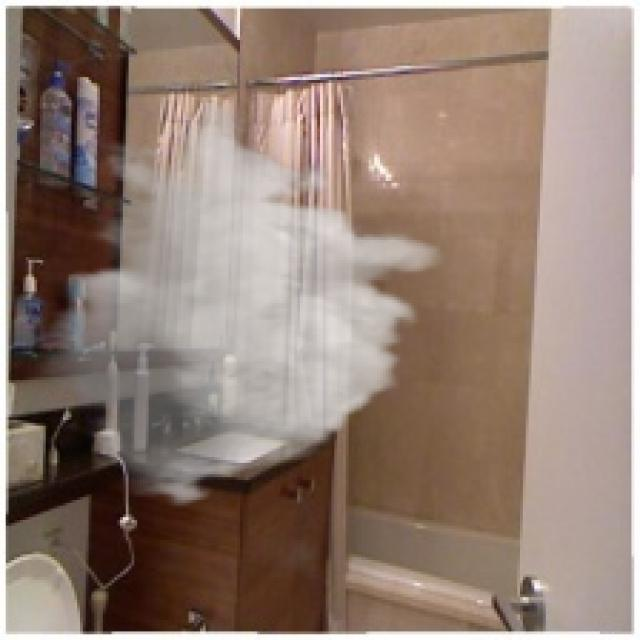smoke: (26, 100, 448, 509)
